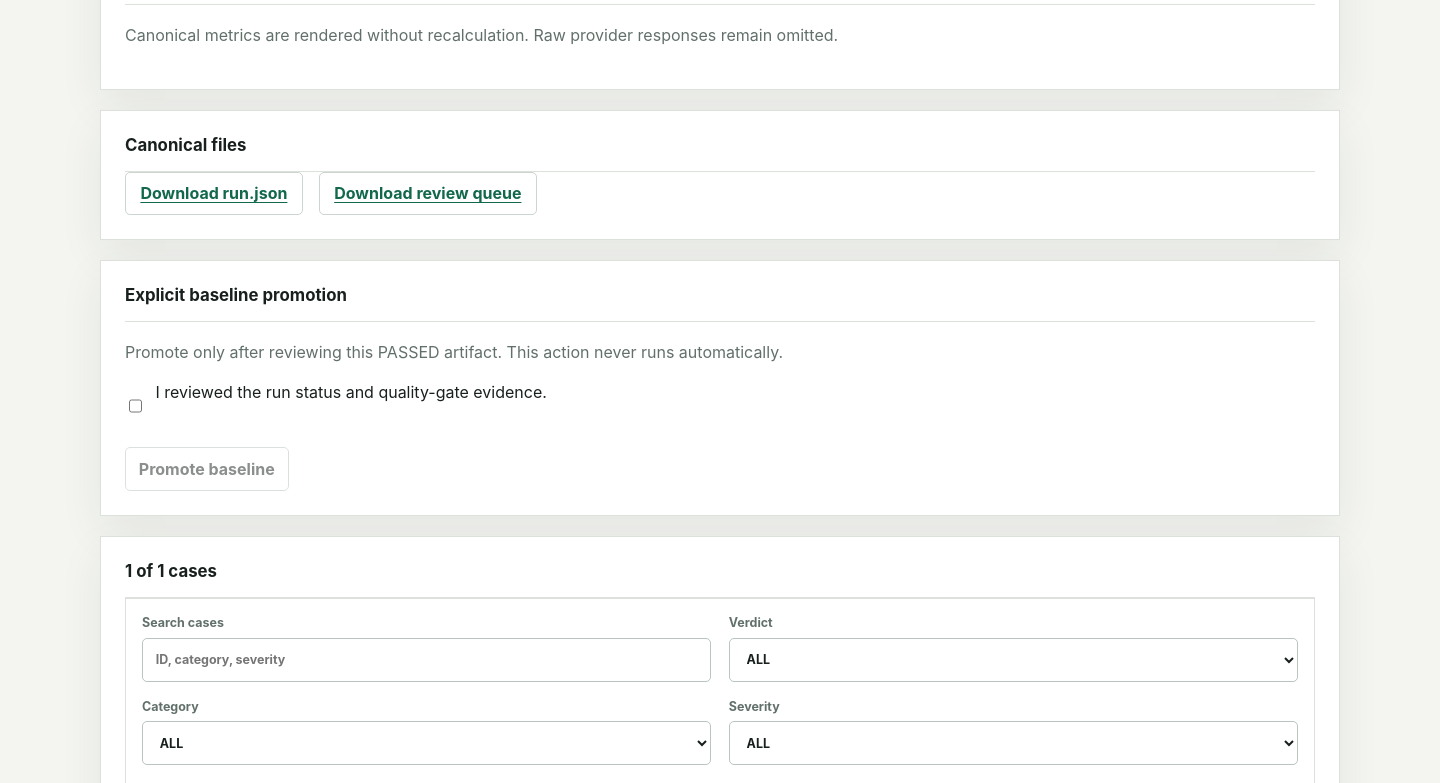
Test: Artifact routes and client › requires two explicit confirmations and a matching hash before baseline overwrite
(page scrolled)
Click the checkbox labelled "I reviewed the run status and quality-gate evidence." at (136, 406), box [129,384,142,428]
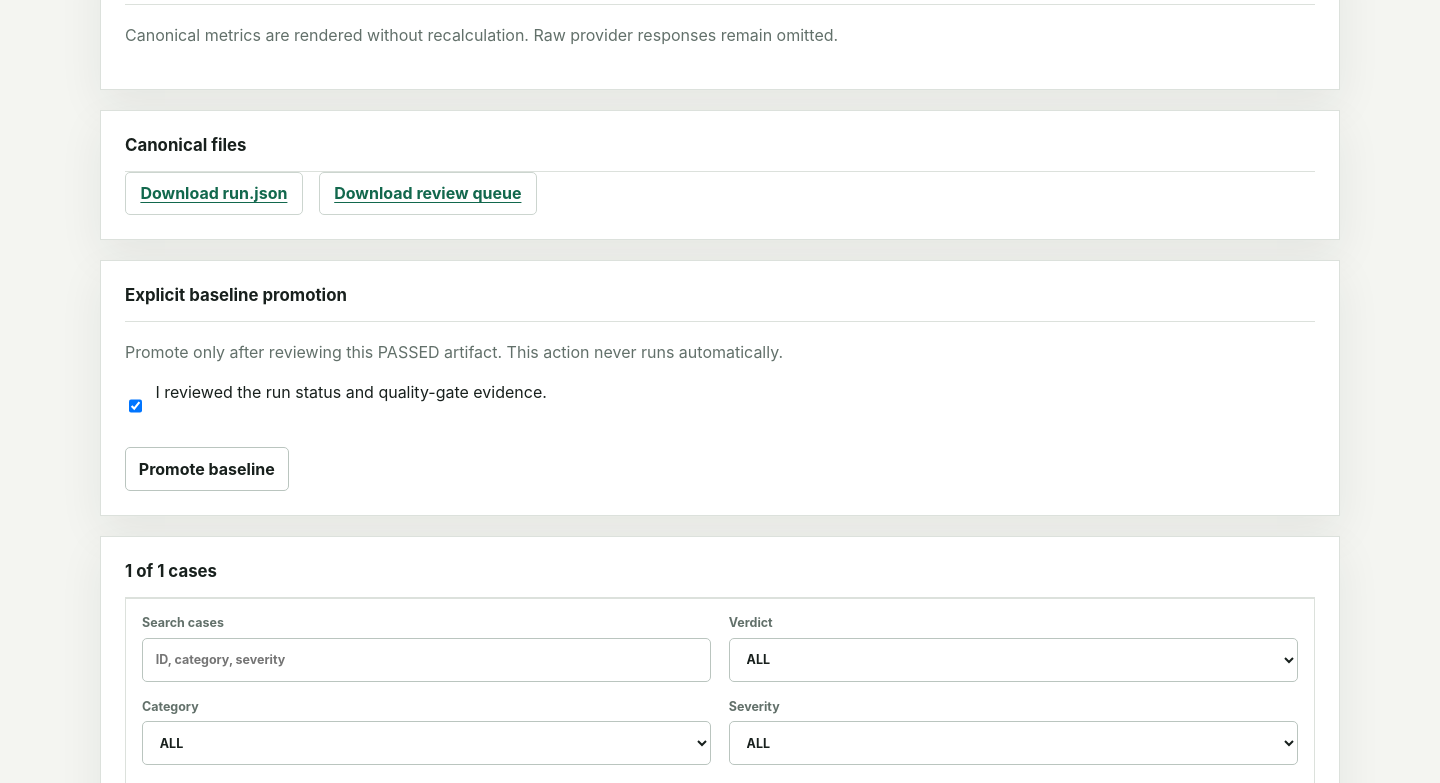
Click the button "Promote baseline" at (207, 469), box [125,447,288,491]
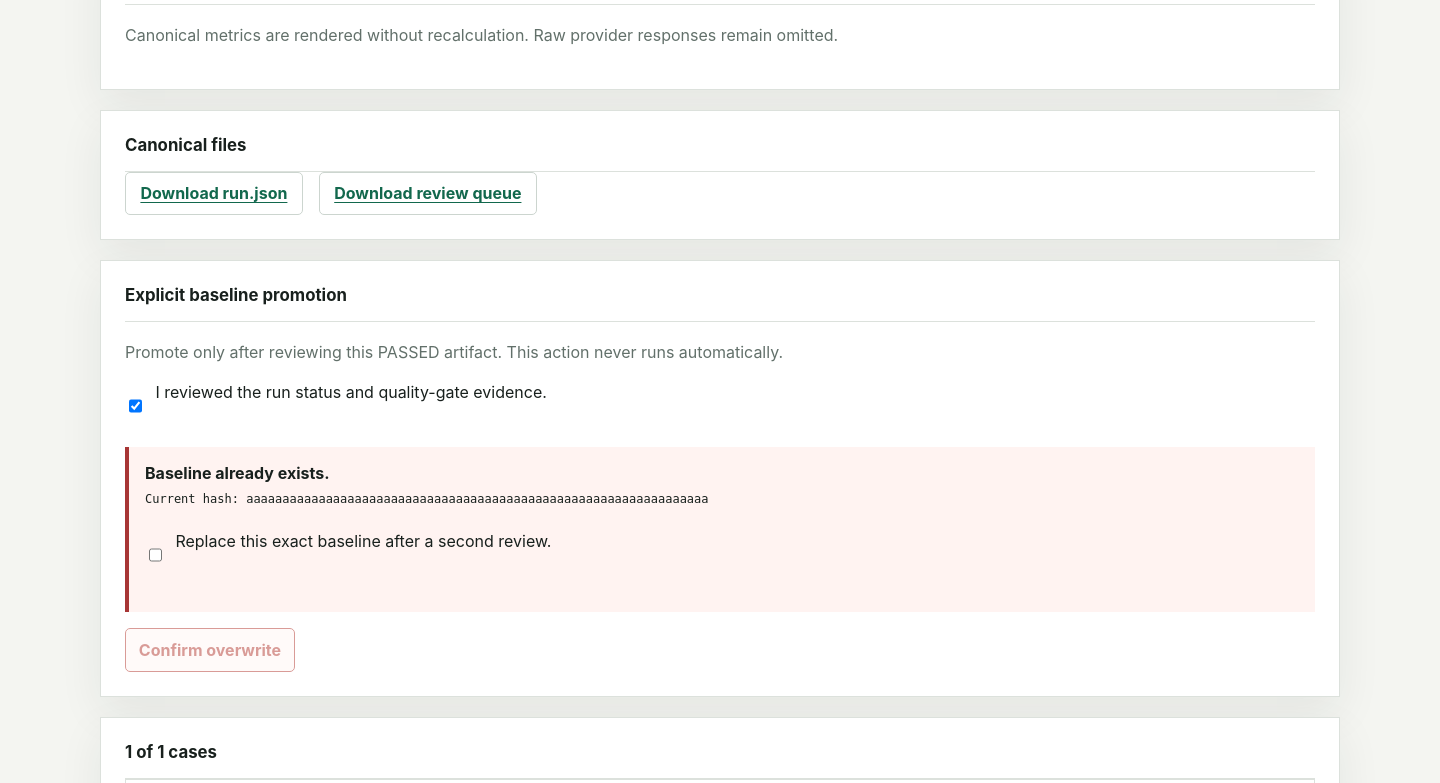
Now the text "Baseline already exists." is shown, box [145,463,330,483]
Click the checkbox labelled "Replace this exact baseline after a second review." at (156, 555), box [149,533,162,577]
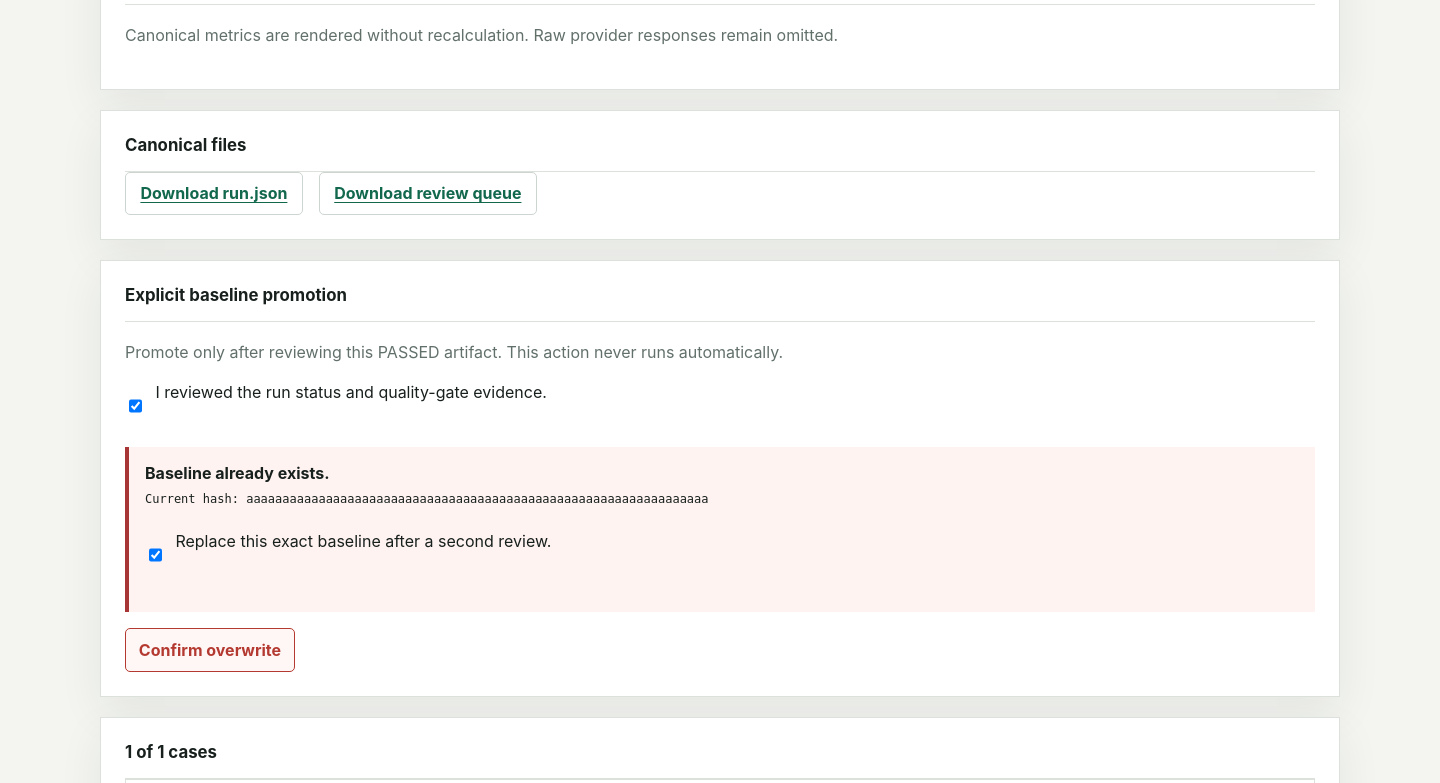
Click the button "Confirm overwrite" at (210, 650), box [125,628,295,672]
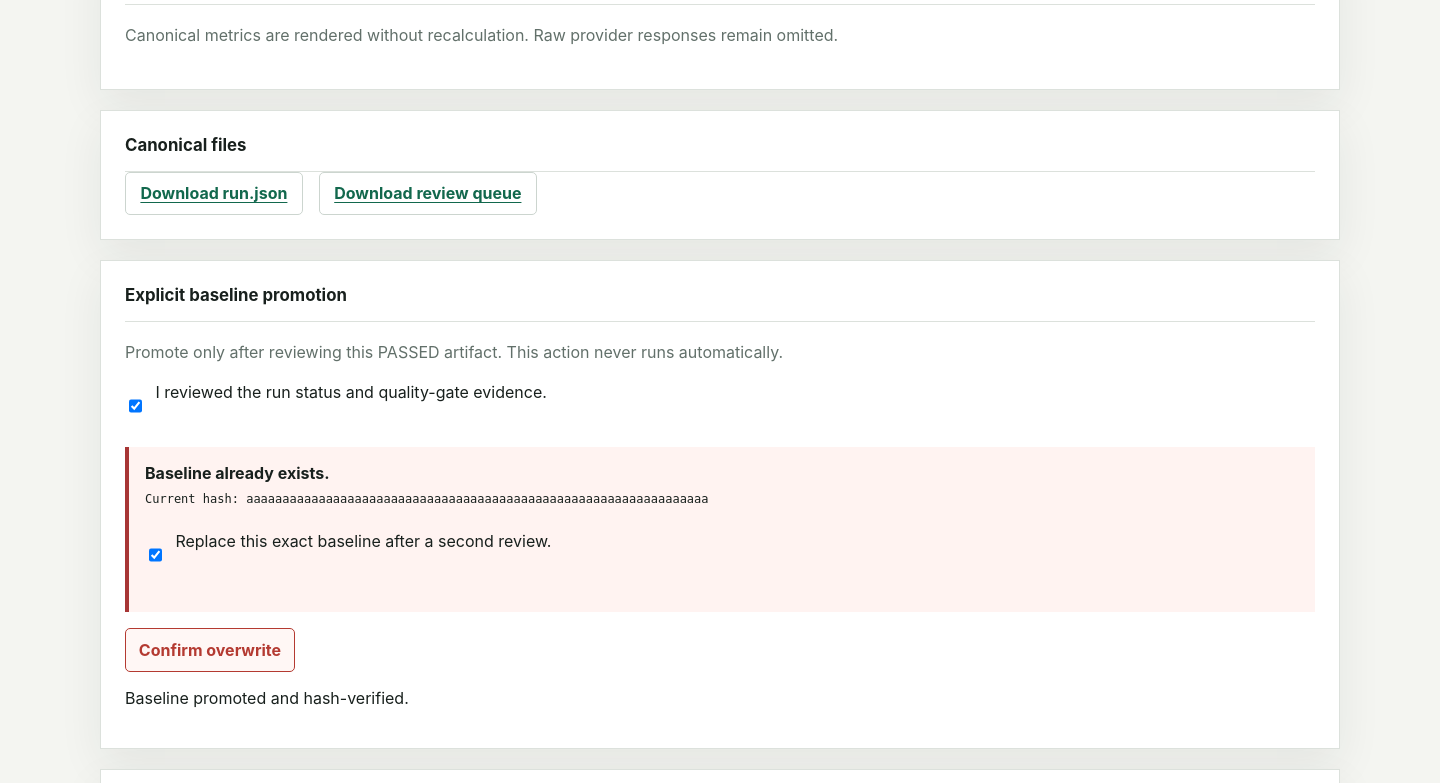
Now the text "Baseline promoted and hash-verified." is shown, box [125,688,409,708]
